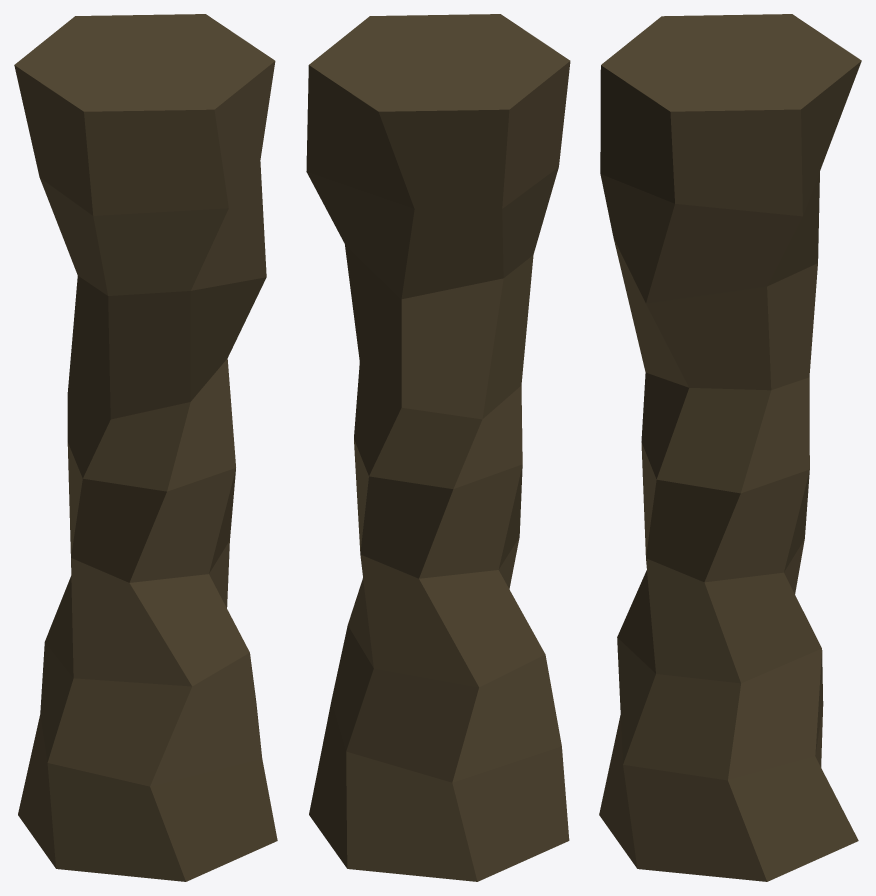
The model's file is BigPillar.2.fbx.
3 renders of one model, left to right at view 1: azimuth 30°, elevation 25°; view 2: azimuth 150°, elevation 25°; view 3: azimuth 270°, elevation 25°, orthographic.
Parts seen in each view (by area): view 1: Big_Pillar.2; view 2: Big_Pillar.2; view 3: Big_Pillar.2.
Boxes of the visible parts, x1,y1,x2,y2 form: Big_Pillar.2: [14, 14, 277, 881]; Big_Pillar.2: [306, 14, 570, 881]; Big_Pillar.2: [599, 14, 861, 881].
Bounding box in the file's own units: 395 × 1300 × 405.
